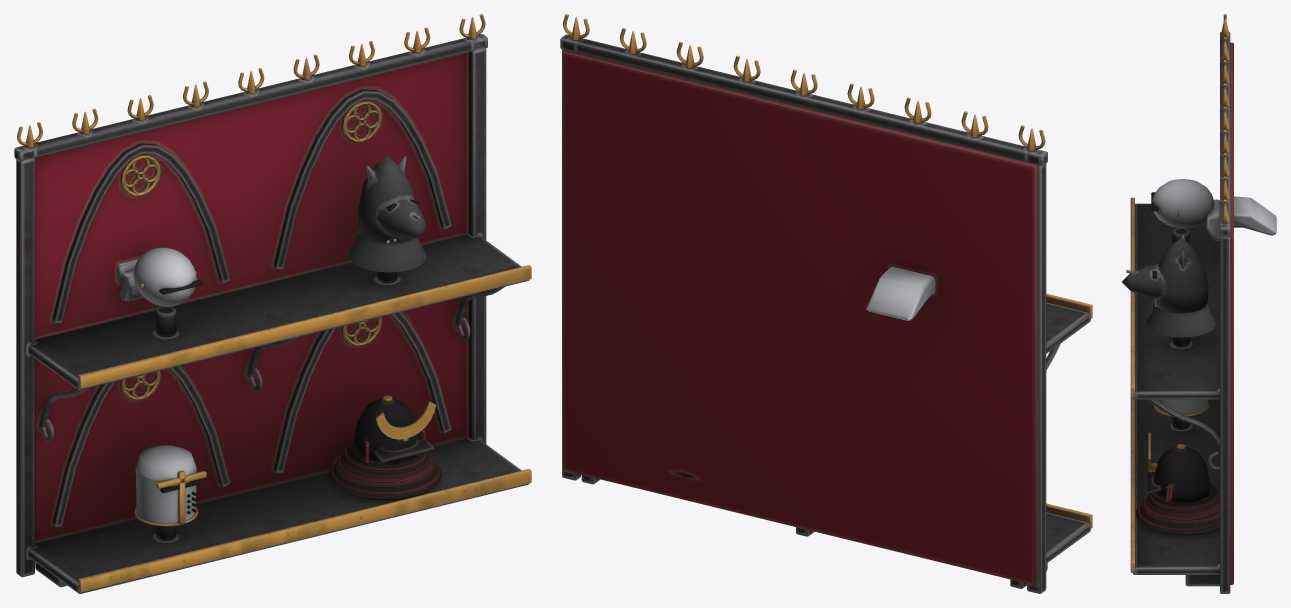
Rendered from HelmShelf.fbx.
3 renders of one model, left to right at view 1: azimuth 30°, elevation 25°; view 2: azimuth 150°, elevation 25°; view 3: azimuth 270°, elevation 25°, orthographic. The views are drawn at different scales.
Visible parts, largest first — view 1: HelmShelf; view 2: HelmShelf; view 3: HelmShelf.
Boxes of the visible parts, <box> form: HelmShelf: <box>14,14,531,593</box>; HelmShelf: <box>560,14,1092,593</box>; HelmShelf: <box>1122,14,1276,593</box>.
Bounding box in the file's own units: 530 × 484 × 176.
